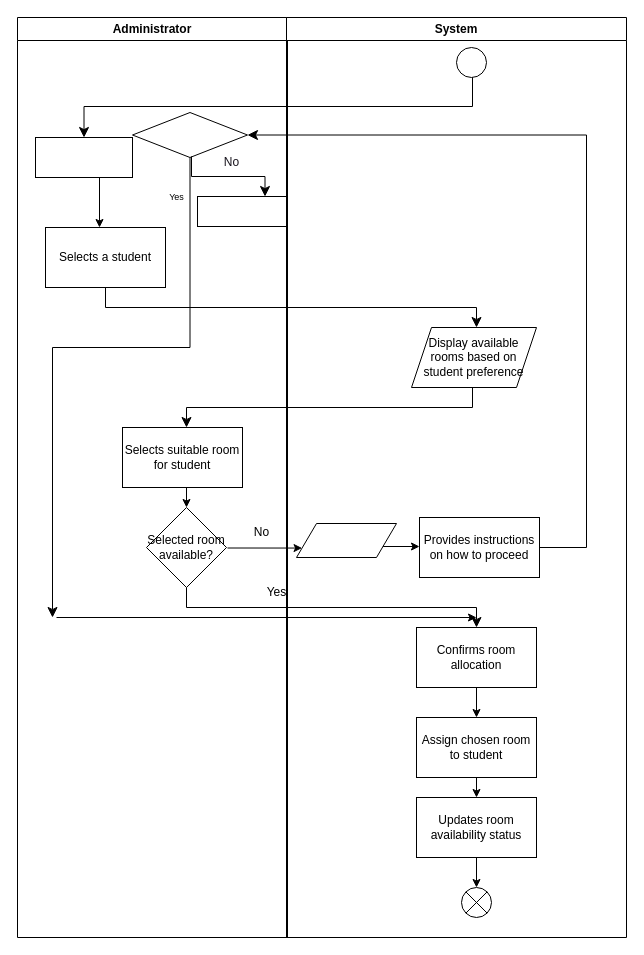
Some shapes in this 644 by 955 pixel diagram are drawn without their labels. Each missing label, with the centre of its shape:
Display "Error": point 346,540
Go to "Room Allocation" section: point 83,157
Modify and allocate different room: point 190,135
Room not available: point 242,211
